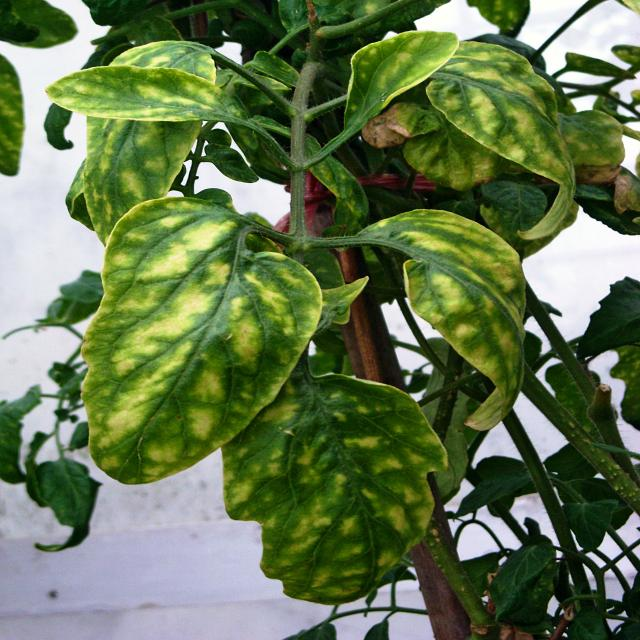Chlorosis: (5, 18, 607, 612)
